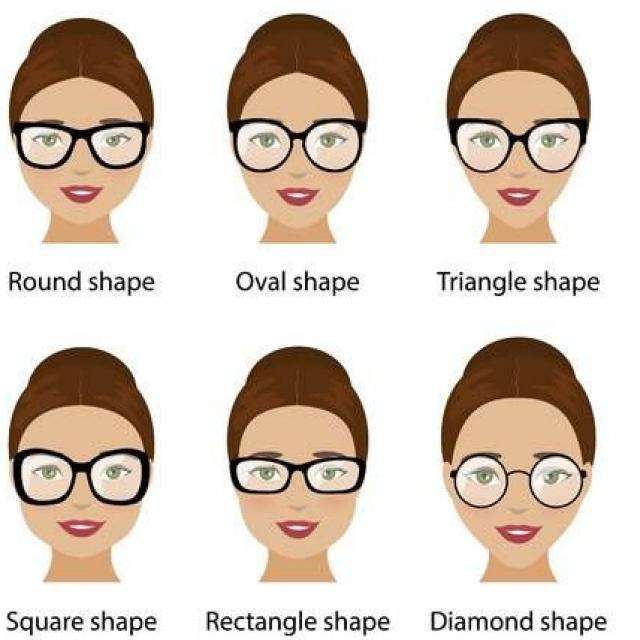Glasses: (450, 448, 587, 513), (448, 114, 586, 177), (13, 446, 151, 509), (224, 117, 367, 175), (8, 118, 151, 173), (230, 454, 366, 498)
